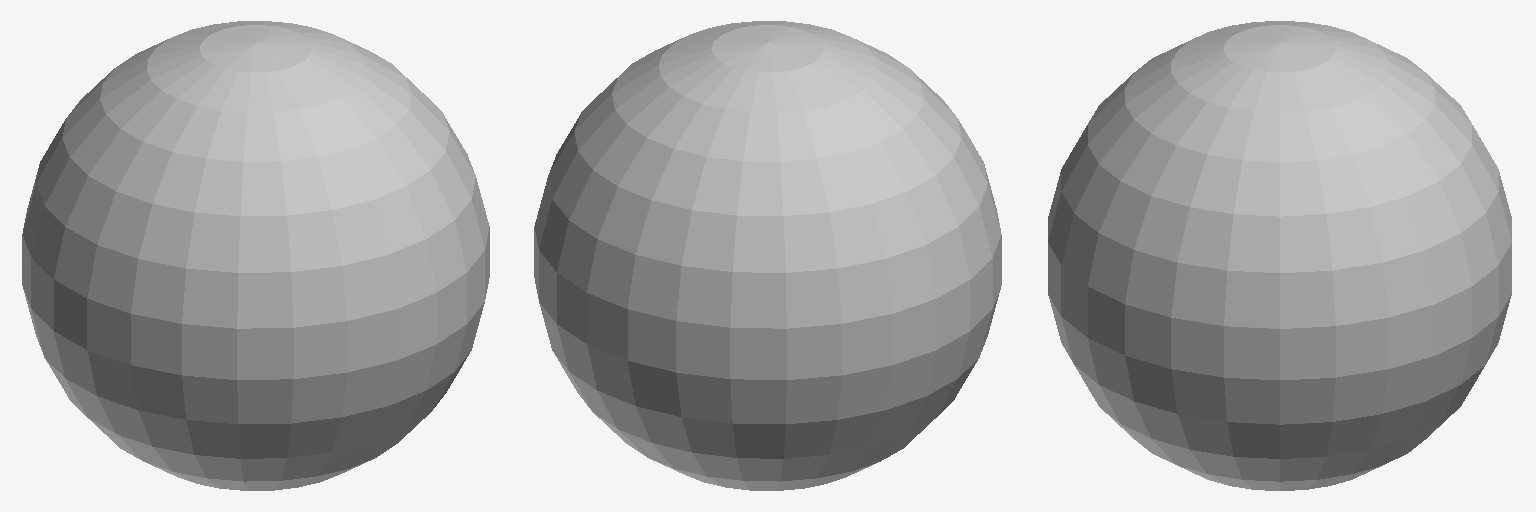
The model's file is island.obj.
The picture shows the model from 3 angles: view 1: azimuth 30°, elevation 25°; view 2: azimuth 150°, elevation 25°; view 3: azimuth 270°, elevation 25°; orthographic projection.
Visible parts, largest first — view 1: Mesh; view 2: Mesh; view 3: Mesh.
Boxes of the visible parts, x1,y1,x2,y2 form: Mesh: [22, 21, 489, 490]; Mesh: [534, 21, 1001, 490]; Mesh: [1048, 21, 1511, 490].
Size of the model in its own units: 0.9927 by 1 by 0.9855.